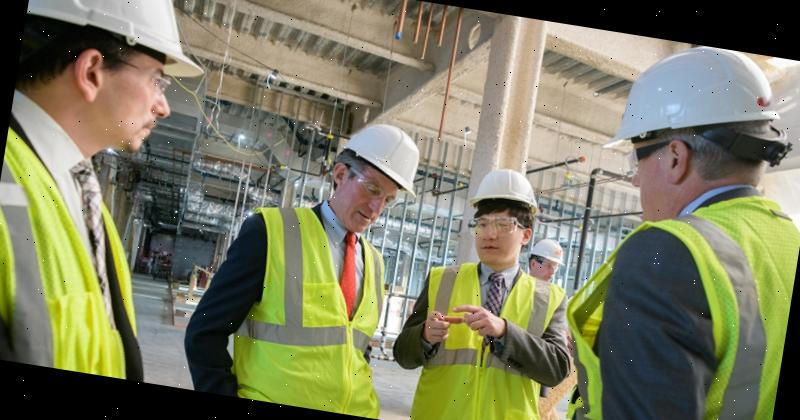helmet: (24, 0, 214, 68), (328, 114, 433, 204), (468, 163, 547, 219), (526, 235, 569, 265)
wear: (565, 211, 799, 420), (0, 141, 176, 381), (221, 208, 396, 418), (596, 32, 788, 178), (406, 256, 571, 420)
